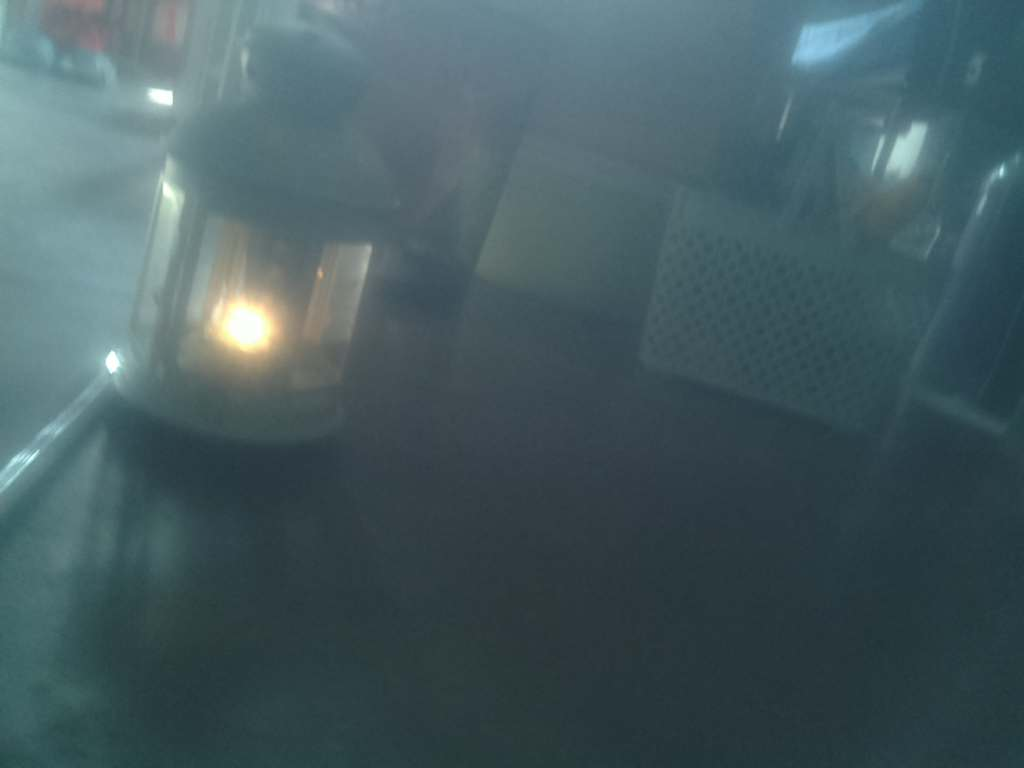fire: (196, 281, 294, 369)
